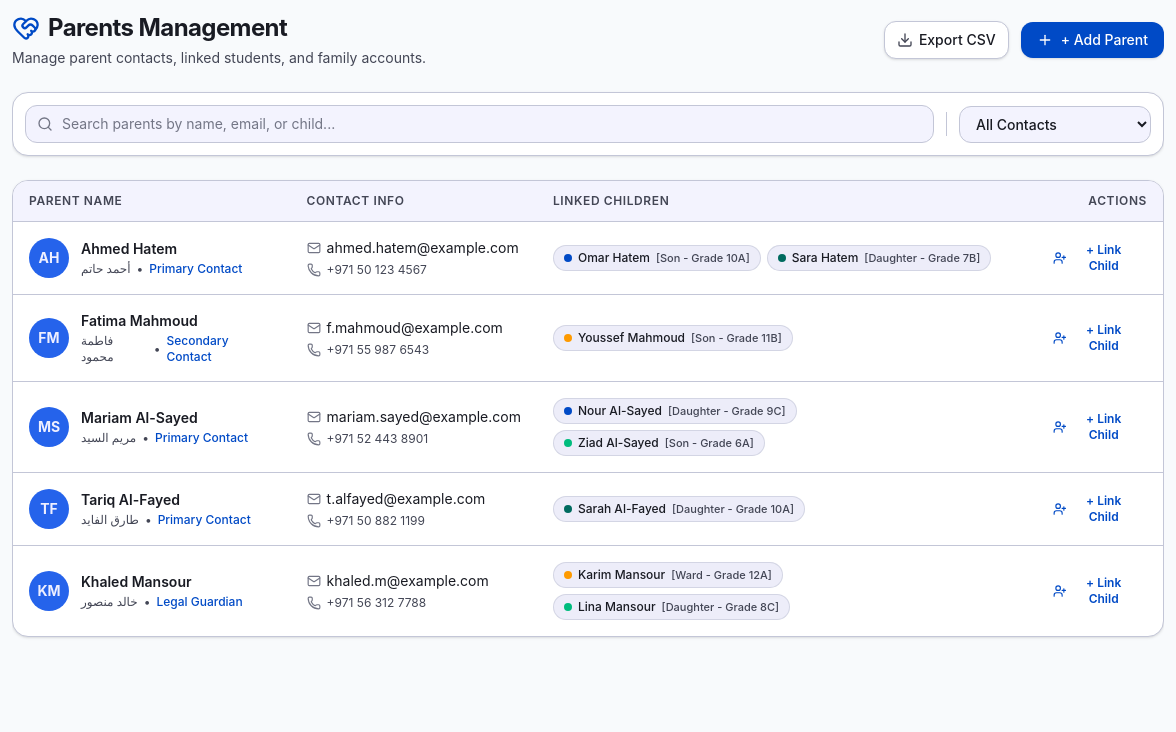
Test: ParentsPage (Parents Directory Stitch Clone) › filters parents by live search query
Type "Fatima" into the field with placeholder "Search parents by name, email, or child..." at x=480, y=124, box top-left (25, 105), bottom-right (934, 143)
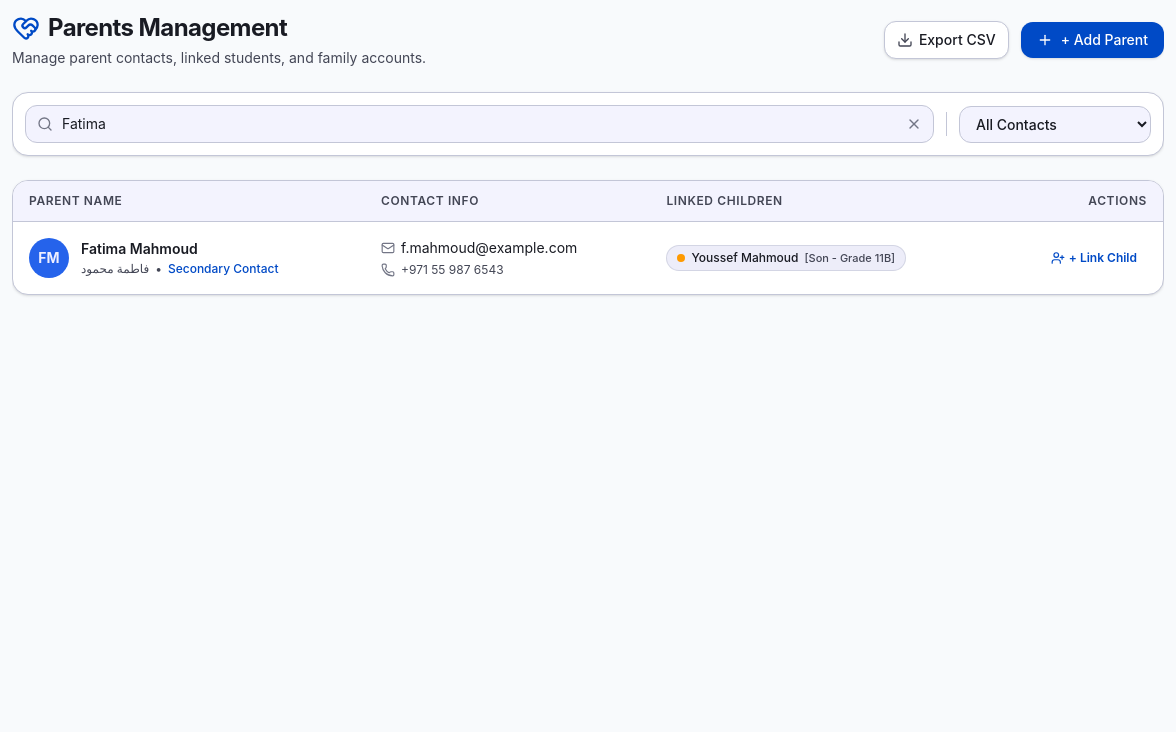
Expected: the text "Fatima Mahmoud" is shown, top-left (81, 240), bottom-right (198, 257)
Expected: the text "Ahmed Hatem" is gone
Expected: the text "Mariam Al-Sayed" is gone
